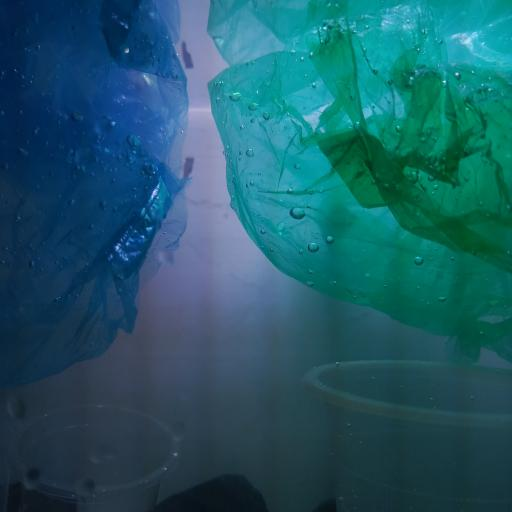plastic_bag: (206, 2, 512, 362), (1, 0, 189, 391)
plastic_cup: (300, 357, 512, 512), (6, 400, 182, 512)
